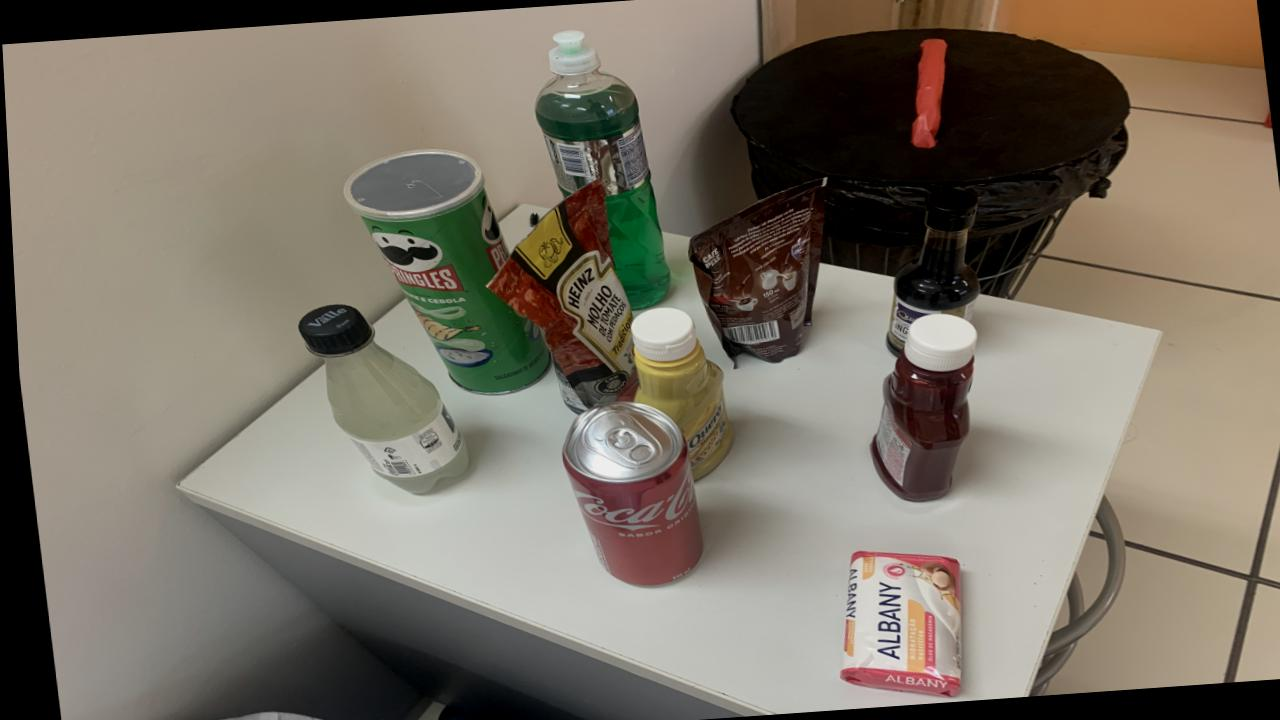Coffee-Pantry_Items: (685, 179, 823, 366)
Coke-Drinks: (557, 400, 698, 586)
Detergent-Cleanup_Items: (533, 30, 666, 309)
English_Sauce-Pantry_Items: (883, 188, 978, 355)
Ketchup-Pantry_Items: (865, 312, 973, 501)
Mustard-Pantry_Items: (628, 307, 729, 480)
Pringles-Snacks: (340, 149, 547, 394)
Soap-Cleanup_Items: (832, 551, 955, 696)
Soda-Drinks: (295, 305, 463, 492)
Tomato_Sauce-Pantry_Items: (483, 181, 632, 413)
